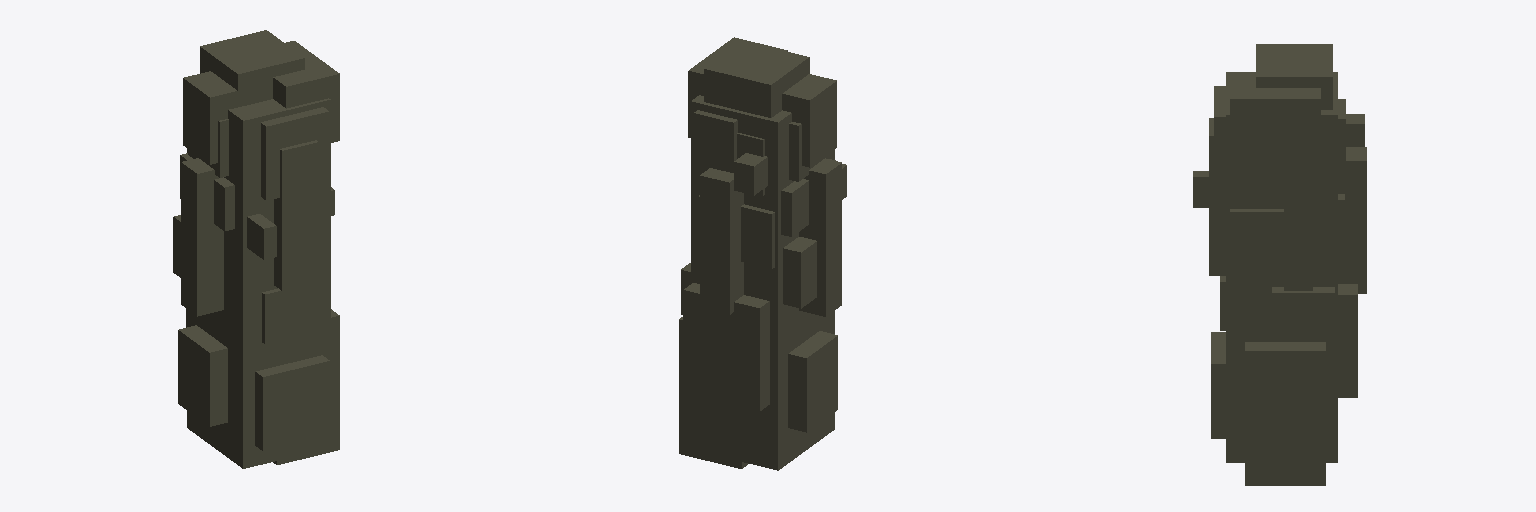
File: zcube_pillar_tall02.obj
3 views of the same model, side by side, from view 1: azimuth 30°, elevation 25°; view 2: azimuth 150°, elevation 25°; view 3: azimuth 270°, elevation 25° (orthographic).
Visible parts, largest first — view 1: zcube_pillar_tall02_Box001.034; view 2: zcube_pillar_tall02_Box001.034; view 3: zcube_pillar_tall02_Box001.034.
Part boxes in pixels (left/top/right/bottom): zcube_pillar_tall02_Box001.034: left=173, top=30, right=339, bottom=468; zcube_pillar_tall02_Box001.034: left=679, top=37, right=846, bottom=470; zcube_pillar_tall02_Box001.034: left=1193, top=44, right=1366, bottom=485.
Size of the model in its own units: 3.6 by 10.24 by 4.11.